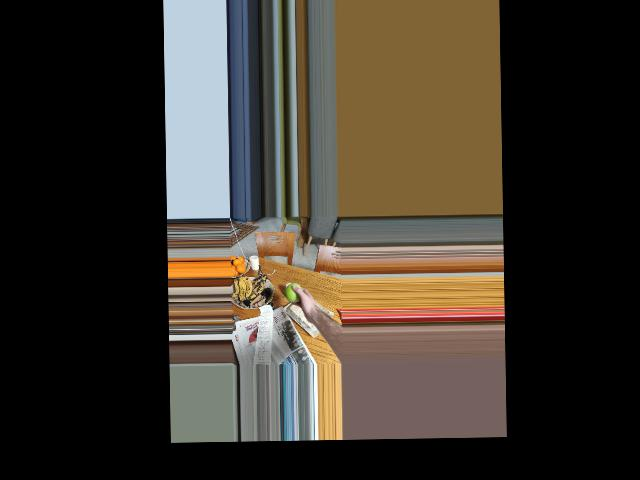apple: (283, 281, 305, 304)
